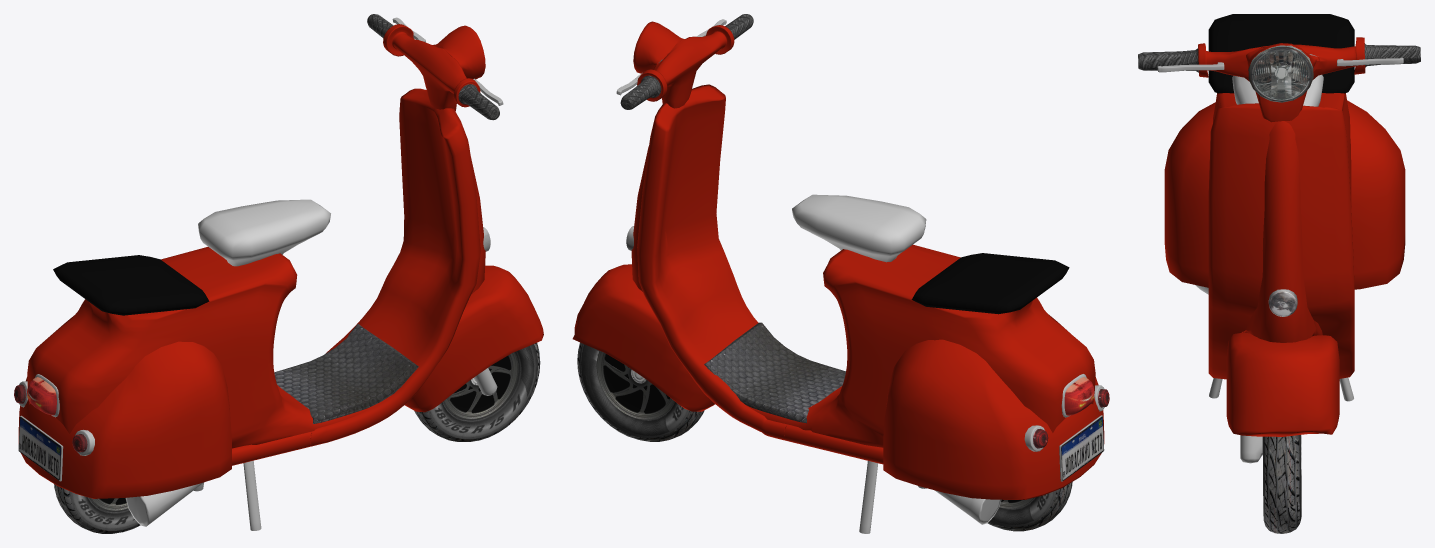
The model's file is lambretinha.fbx.
3 views of the same model, side by side, from view 1: azimuth 30°, elevation 25°; view 2: azimuth 150°, elevation 25°; view 3: azimuth 270°, elevation 25° (orthographic). The views are drawn at different scales.
Visible parts, largest first — view 1: corpo_traseiro, corpo_frontaç, segura_roda_frontal, protetor_roda, tapetin, quadrado_atras_banco, roda_frontal, banco, guidon_com_manopla, roda_traseiira, guidon_com_farol, placa (+4 smaller); view 2: corpo_traseiro, corpo_frontaç, segura_roda_frontal, protetor_roda, tapetin, quadrado_atras_banco, roda_frontal, banco, guidon_com_manopla, roda_traseiira, guidon_com_farol, placa (+4 smaller); view 3: corpo_frontaç, segura_roda_frontal, protetor_roda, nariz_da_moto, quadrado_atras_banco, guidon_com_manopla, guidon_com_farol, roda_frontal, corpo_traseiro, banco, farolzinho_frontal, segura_rodas (+1 smaller).
Boxes of the visible parts, x1,y1,x2,y2 form: corpo_traseiro: (27,247,391,448); corpo_frontaç: (232,88,480,465); segura_roda_frontal: (18,341,231,498); protetor_roda: (404,265,543,412); tapetin: (274,324,418,423); quadrado_atras_banco: (53,255,209,315); roda_frontal: (414,343,540,441); banco: (198,199,330,266); guidon_com_manopla: (367,14,499,120); roda_traseiira: (54,484,140,533); guidon_com_farol: (392,17,503,105); placa: (18,415,63,481); corpo_traseiro: (746,244,1095,447); corpo_frontaç: (637,84,883,464); segura_roda_frontal: (883,339,1104,499); protetor_roda: (572,264,714,411); tapetin: (704,322,845,423); quadrado_atras_banco: (911,253,1069,314); roda_frontal: (577,342,704,441); banco: (792,194,926,262); guidon_com_manopla: (620,14,753,109); roda_traseiira: (987,482,1072,531); guidon_com_farol: (616,19,726,95); placa: (1059,415,1104,481); corpo_frontaç: (1208,103,1354,379); segura_roda_frontal: (1164,100,1405,289); protetor_roda: (1226,332,1339,436); nariz_da_moto: (1242,121,1322,342); quadrado_atras_banco: (1208,14,1354,93); guidon_com_manopla: (1138,37,1420,122); guidon_com_farol: (1157,43,1403,102); roda_frontal: (1262,435,1301,533); corpo_traseiro: (1213,93,1351,205); banco: (1232,74,1323,106); farolzinho_frontal: (1268,289,1297,316); segura_rodas: (1240,435,1262,463).
Size of the model in its own units: 4.64 by 3.72 by 1.94.
